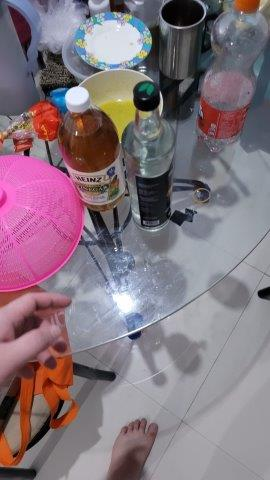botolkaca: (117, 82, 180, 232)
